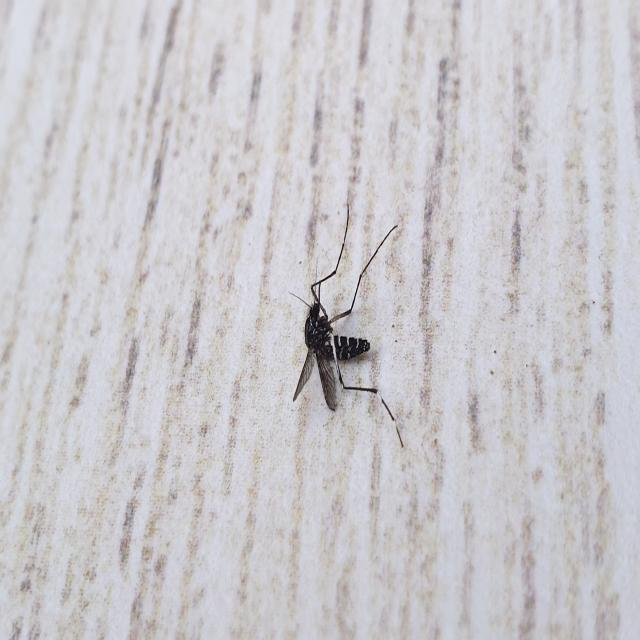albopictus: (277, 188, 407, 452)
